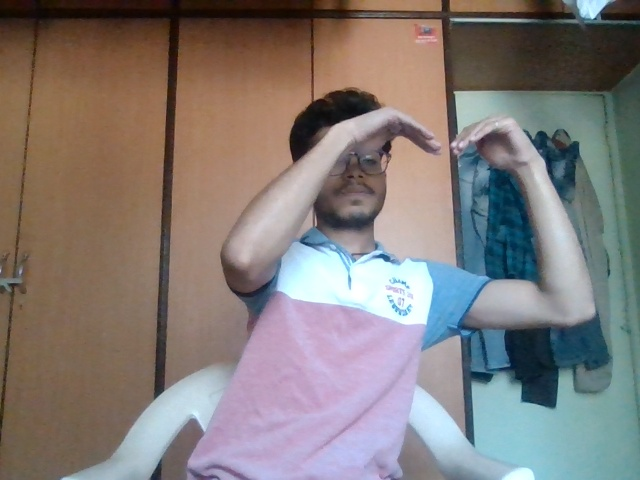we: (303, 111, 568, 228)
